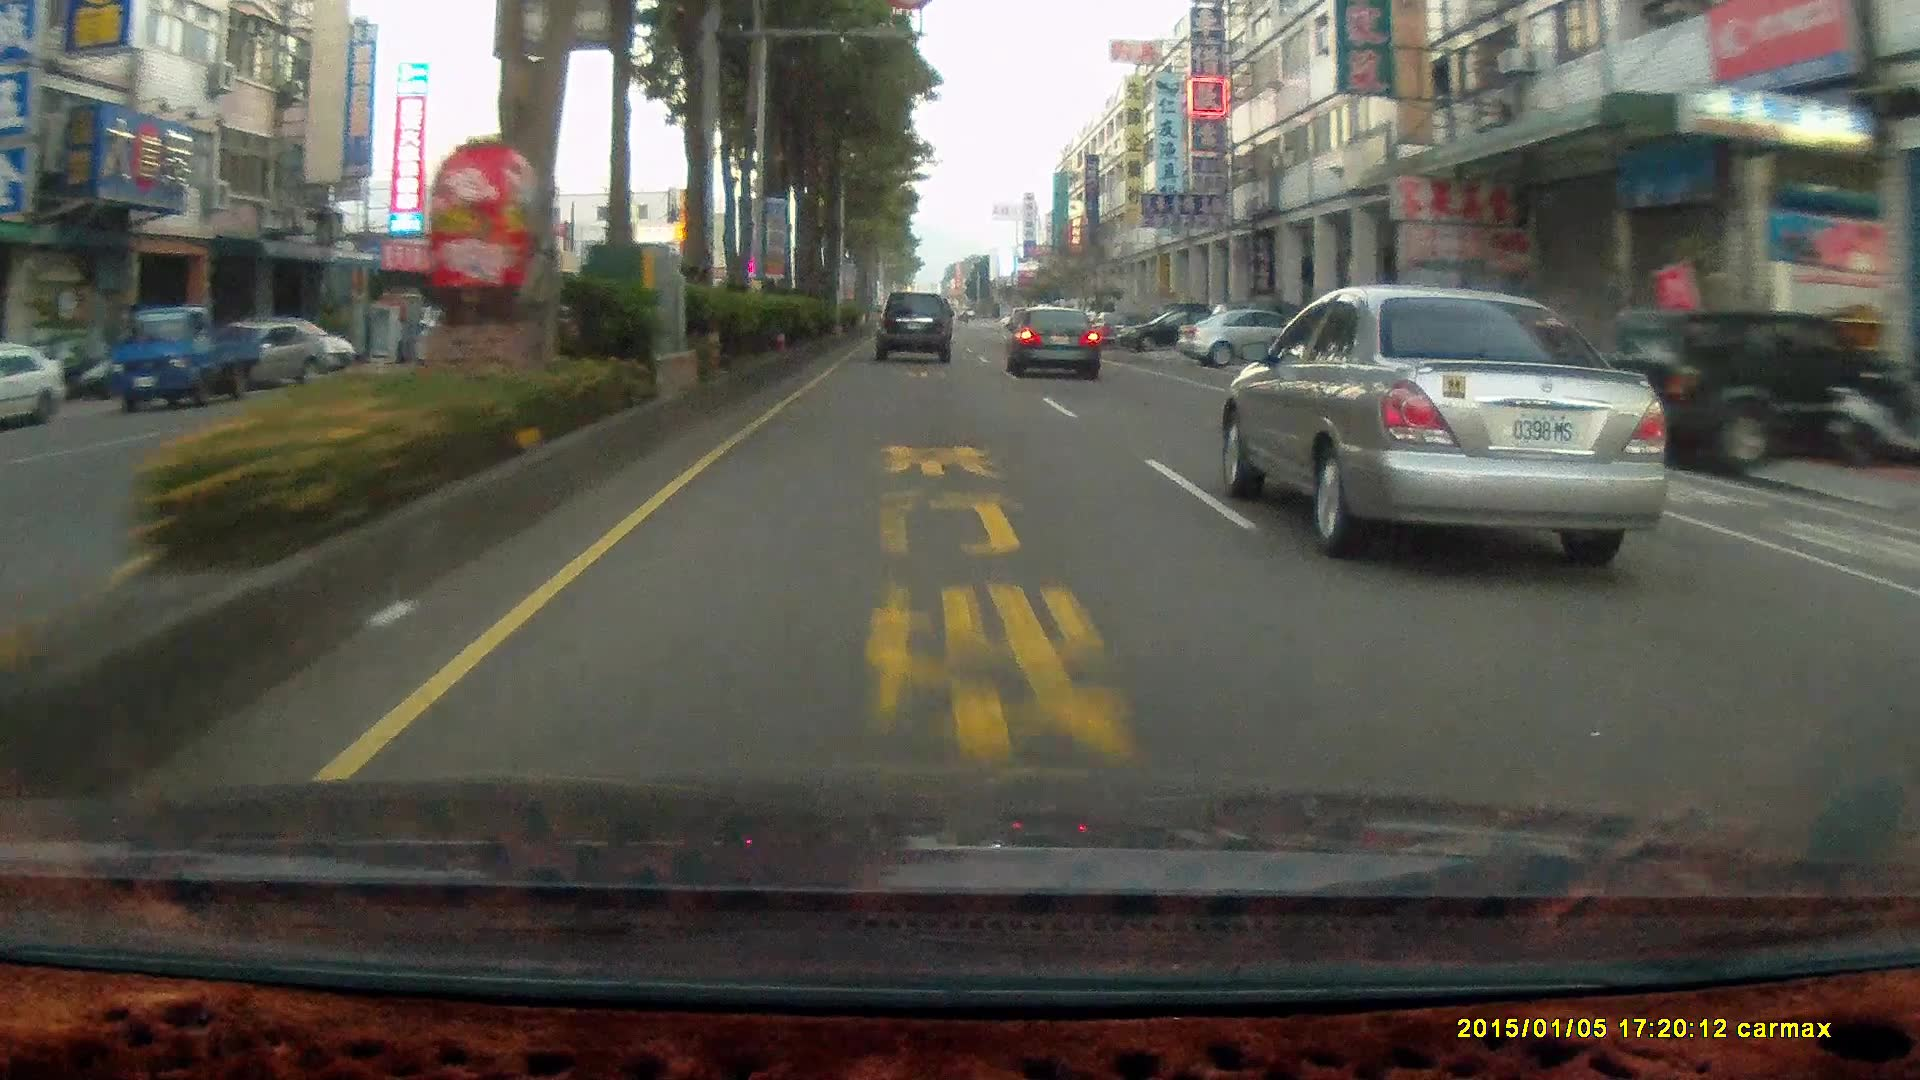vehicle: (1226, 286, 1692, 560), (1593, 305, 1900, 469), (1597, 310, 1902, 467), (102, 301, 258, 410), (109, 305, 266, 407), (1292, 313, 1433, 414), (189, 319, 327, 389), (1178, 306, 1332, 367), (1006, 303, 1102, 378), (1004, 303, 1100, 377), (874, 290, 956, 365), (872, 291, 953, 361), (0, 343, 66, 429), (1116, 305, 1229, 349)
